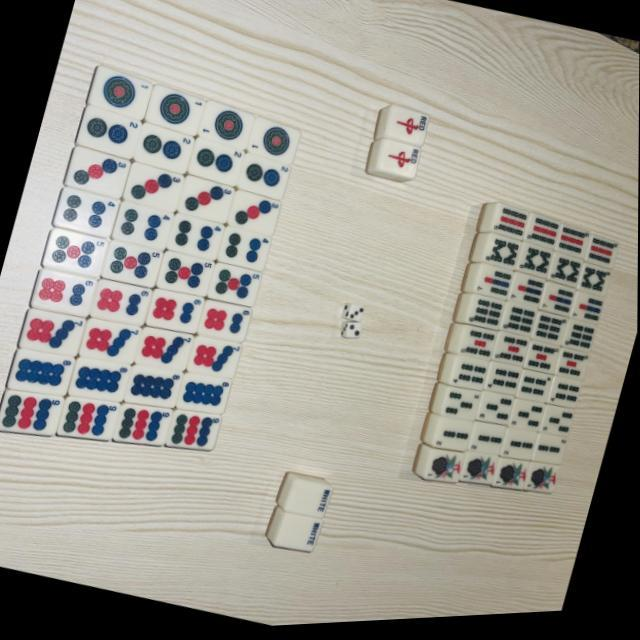hdr: (374, 143, 420, 185), (384, 110, 428, 150)
sb2: (431, 420, 474, 460), (468, 425, 504, 464), (531, 438, 567, 474), (501, 432, 536, 467)
sb3: (439, 389, 482, 429), (474, 394, 515, 434), (506, 402, 546, 442), (539, 409, 575, 446)
sb4: (448, 360, 490, 400), (483, 366, 523, 404), (513, 372, 551, 410), (544, 381, 580, 417)
sb5: (491, 334, 532, 374), (458, 328, 498, 367), (523, 344, 560, 381), (552, 352, 588, 388)
sb6: (464, 298, 506, 338), (530, 315, 568, 353), (498, 306, 536, 344), (560, 324, 596, 360)
sb7: (506, 278, 546, 318), (472, 268, 513, 307), (538, 287, 576, 326), (568, 295, 602, 331)
sb8: (480, 240, 520, 278), (514, 248, 552, 286), (545, 260, 582, 296), (574, 268, 609, 303)
sb9: (490, 208, 531, 248), (522, 218, 562, 256), (582, 240, 620, 279), (552, 230, 590, 268)
sd1: (87, 66, 153, 122), (141, 82, 205, 138), (194, 102, 254, 154), (244, 120, 300, 170)
sd2: (74, 104, 143, 162), (131, 120, 196, 178), (185, 138, 245, 190), (234, 155, 290, 204)
sd3: (64, 146, 131, 202), (122, 162, 184, 216), (174, 176, 234, 228), (225, 192, 281, 240)
sd4: (53, 186, 119, 242), (109, 199, 172, 255), (165, 213, 225, 265), (214, 227, 270, 276)
sd5: (41, 225, 108, 283), (101, 238, 163, 292), (156, 251, 216, 301), (206, 262, 262, 312)
sd6: (30, 265, 96, 321), (88, 276, 150, 330), (144, 286, 204, 338), (196, 298, 252, 347)
sd7: (18, 304, 84, 361), (78, 316, 141, 372), (132, 324, 192, 376), (184, 336, 240, 384)
sd8: (5, 344, 74, 404), (66, 352, 132, 410), (120, 362, 182, 416), (175, 370, 231, 420)
sd9: (0, 383, 64, 447), (54, 390, 118, 450), (109, 396, 173, 454), (162, 406, 220, 458)
